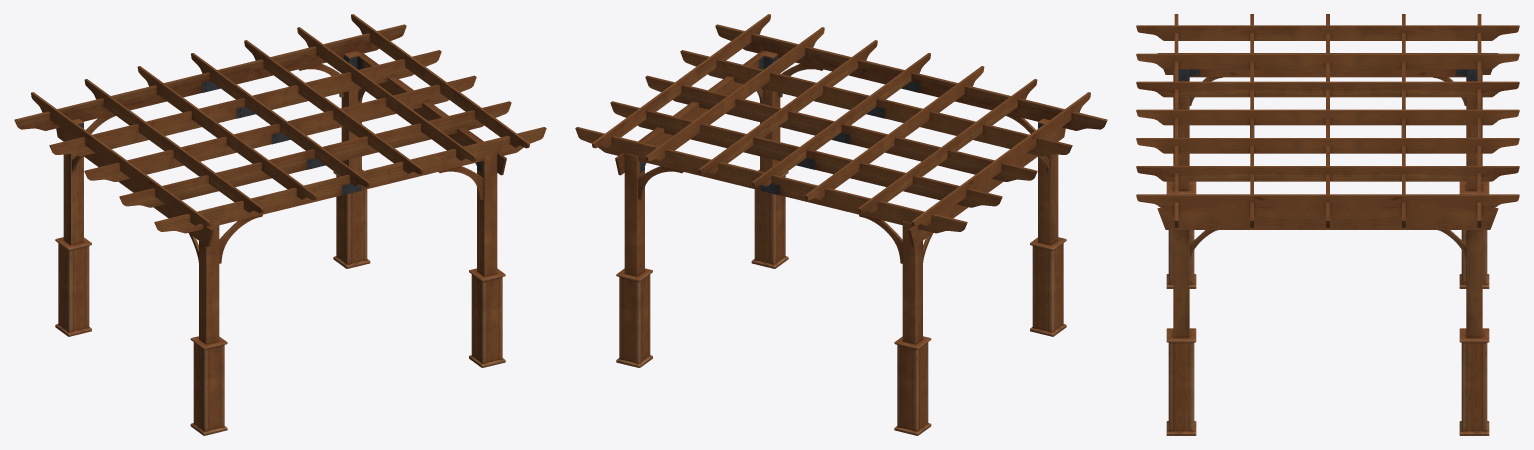
File: GardenPergola01_4.FBX
3 views of the same model, side by side, from view 1: azimuth 30°, elevation 25°; view 2: azimuth 150°, elevation 25°; view 3: azimuth 270°, elevation 25° (orthographic). The views are drawn at different scales.
Parts seen in each view (by area): view 1: GardenPergola01_4; view 2: GardenPergola01_4; view 3: GardenPergola01_4.
Part boxes in pixels (box(x1,y1,x2,y2)): GardenPergola01_4: box(14, 14, 546, 435); GardenPergola01_4: box(575, 14, 1107, 435); GardenPergola01_4: box(1136, 14, 1519, 435).
Size of what is drawn, in the model's own units: 5.16 by 2.87 by 4.05.
